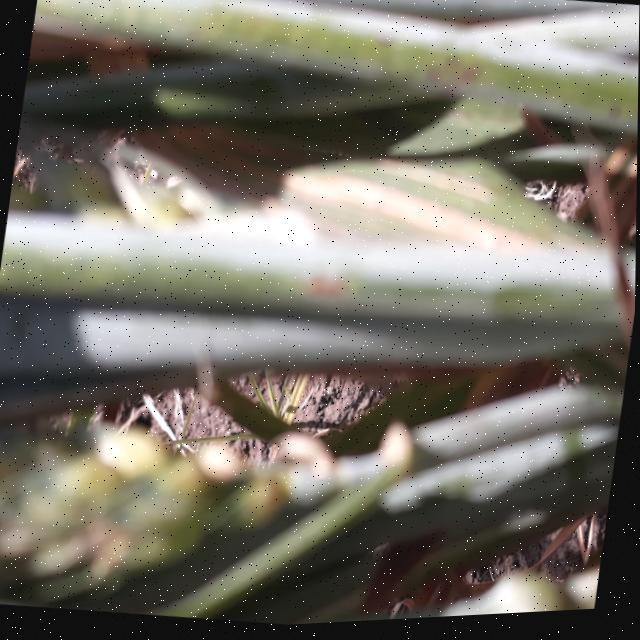black_stem_rust: (58, 0, 640, 156), (198, 159, 472, 362)
